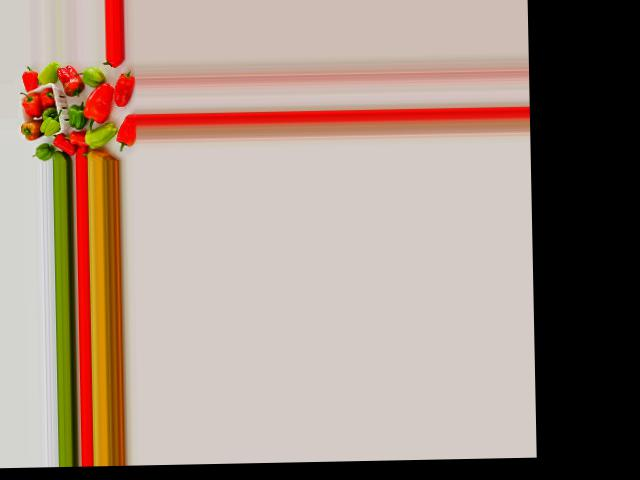bell_pepper: (113, 118, 137, 152)
